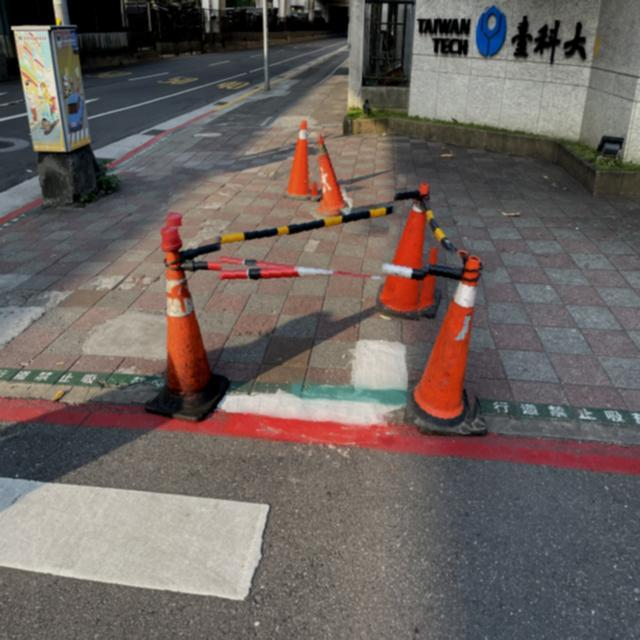traffic cone: (143, 212, 231, 422), (409, 252, 488, 437), (376, 196, 441, 321), (314, 134, 350, 217), (283, 120, 319, 201)
